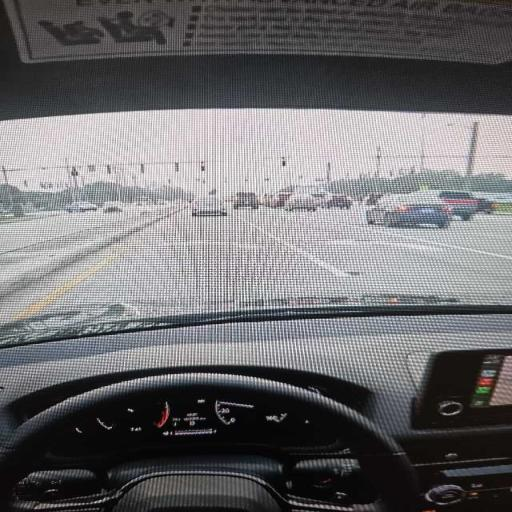car: (0, 205, 511, 511), (366, 193, 452, 228), (432, 191, 478, 220), (192, 197, 227, 216), (285, 194, 318, 211), (473, 193, 495, 214), (232, 192, 259, 209), (490, 193, 511, 214), (321, 194, 352, 208), (264, 193, 292, 208), (66, 202, 98, 213), (103, 202, 125, 213), (364, 193, 383, 205)
lane: (0, 208, 511, 321), (267, 209, 511, 301)
